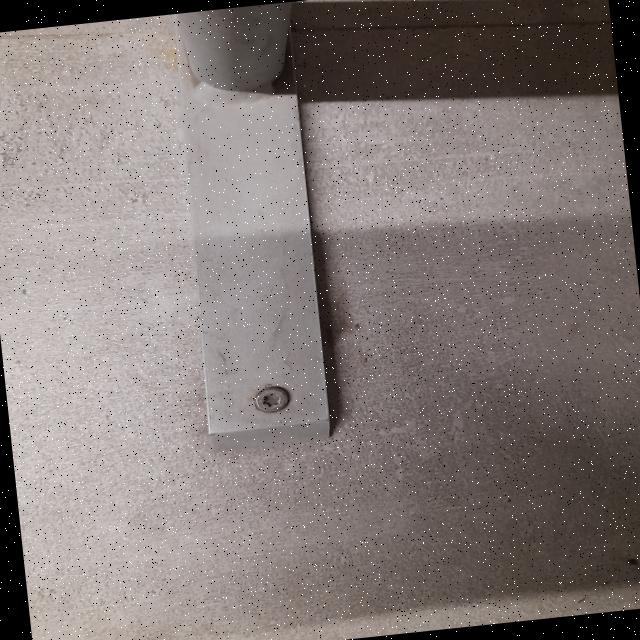Torx: (251, 383, 292, 414)
